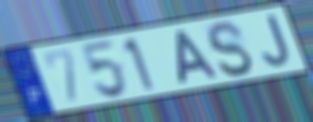1: (120, 35, 157, 93)
5: (76, 37, 132, 99)
7: (39, 46, 80, 105)
A: (173, 28, 221, 86)
J: (260, 12, 292, 69)
S: (205, 19, 255, 79)
